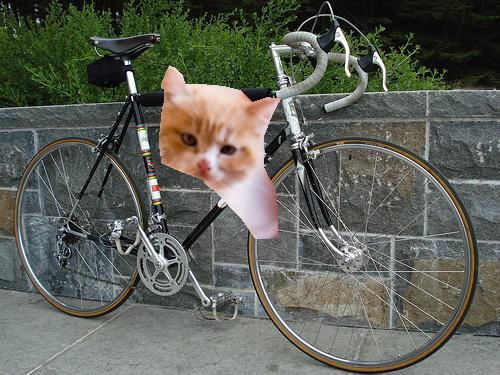tampered: (160, 66, 280, 239)
